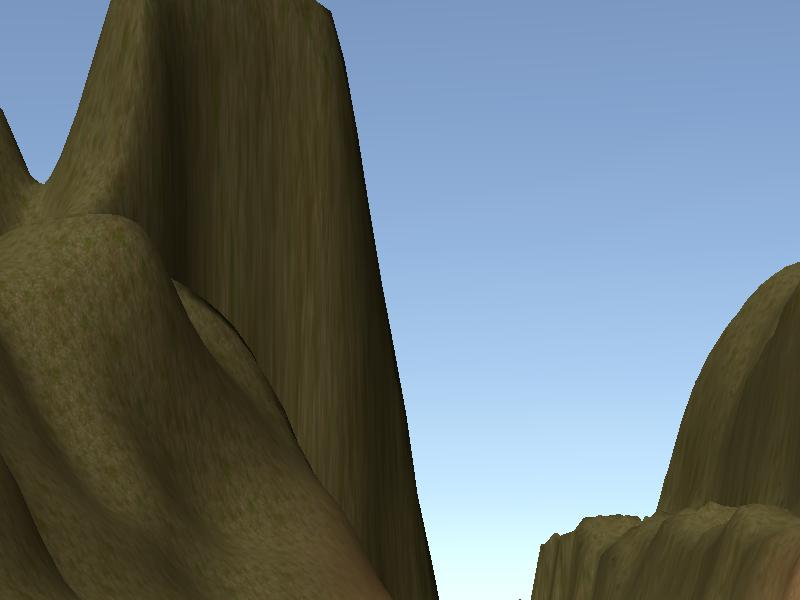background: (1, 1, 799, 599)
